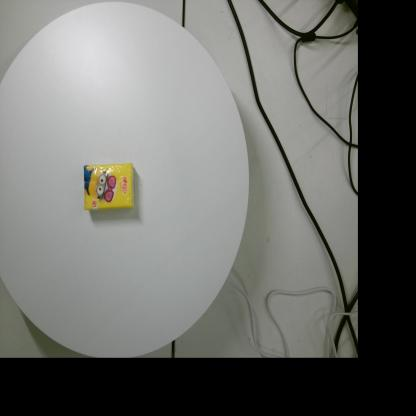Tissue: (84, 163, 134, 210)
